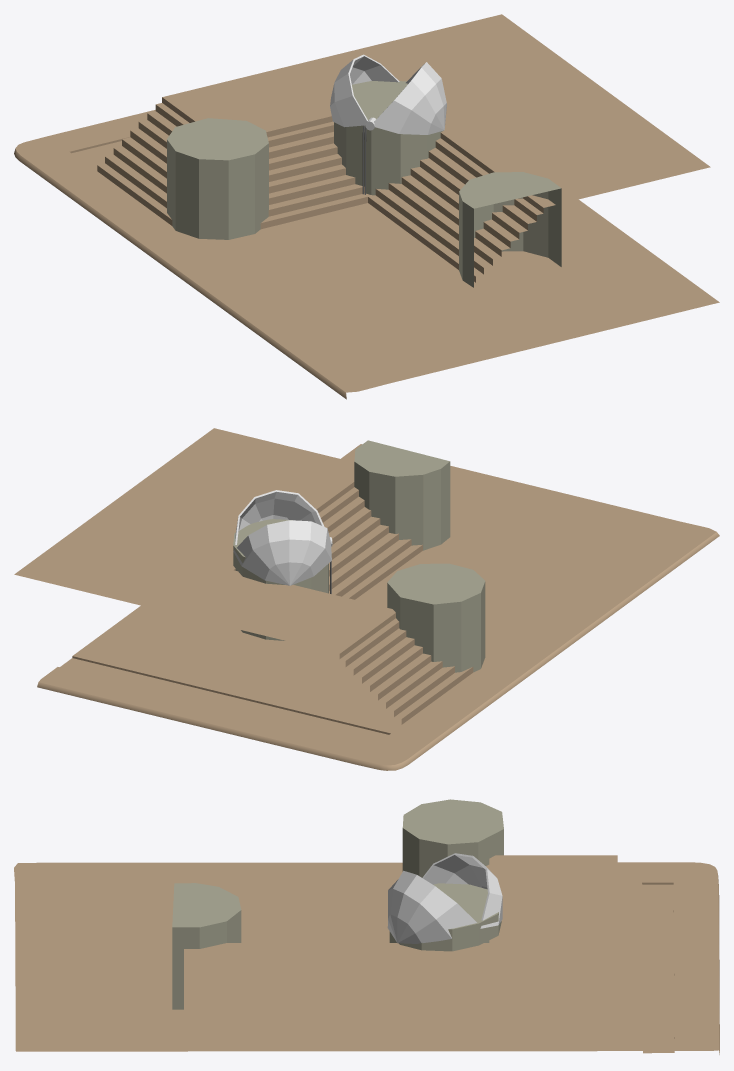
The model's file is stairs.fbx.
3 renders of one model, top to bottom at view 1: azimuth 30°, elevation 25°; view 2: azimuth 150°, elevation 25°; view 3: azimuth 270°, elevation 25°, orthographic. The views are drawn at different scales.
Parts seen in each view (by area): view 1: Cube.004, Cube.016, Cylinder.001, Cylinder.002, Cylinder, Sphere.001, Sphere; view 2: Cube.004, Cube.016, Cylinder.001, Cylinder.002, Sphere, Sphere.001, Cylinder; view 3: Cube.004, Cube.016, Cylinder.001, Cylinder.002, Sphere.001, Cylinder, Sphere.
Part boxes in pixels (box(x1,y1,x2,y2)): Cube.004: box(14, 110, 719, 399); Cube.016: box(97, 14, 710, 282); Cylinder.001: box(167, 118, 268, 239); Cylinder.002: box(459, 172, 561, 287); Cylinder: box(334, 81, 443, 195); Sphere.001: box(374, 62, 446, 134); Sphere: box(330, 54, 399, 127); Cube.004: box(37, 444, 719, 770); Cube.016: box(14, 428, 473, 724); Cylinder.001: box(387, 563, 485, 672); Cylinder.002: box(354, 440, 450, 550); Sphere: box(233, 520, 331, 585); Sphere.001: box(235, 490, 324, 544); Cylinder: box(233, 519, 328, 640); Cube.004: box(14, 862, 719, 1054); Cube.016: box(184, 855, 617, 1027); Cylinder.001: box(402, 799, 503, 877); Cylinder.002: box(172, 883, 241, 1009); Sphere.001: box(387, 870, 476, 943); Cylinder: box(389, 883, 501, 951); Sphere: box(422, 853, 502, 928).
Size of the model in its own units: 1320 by 375 by 1739.
